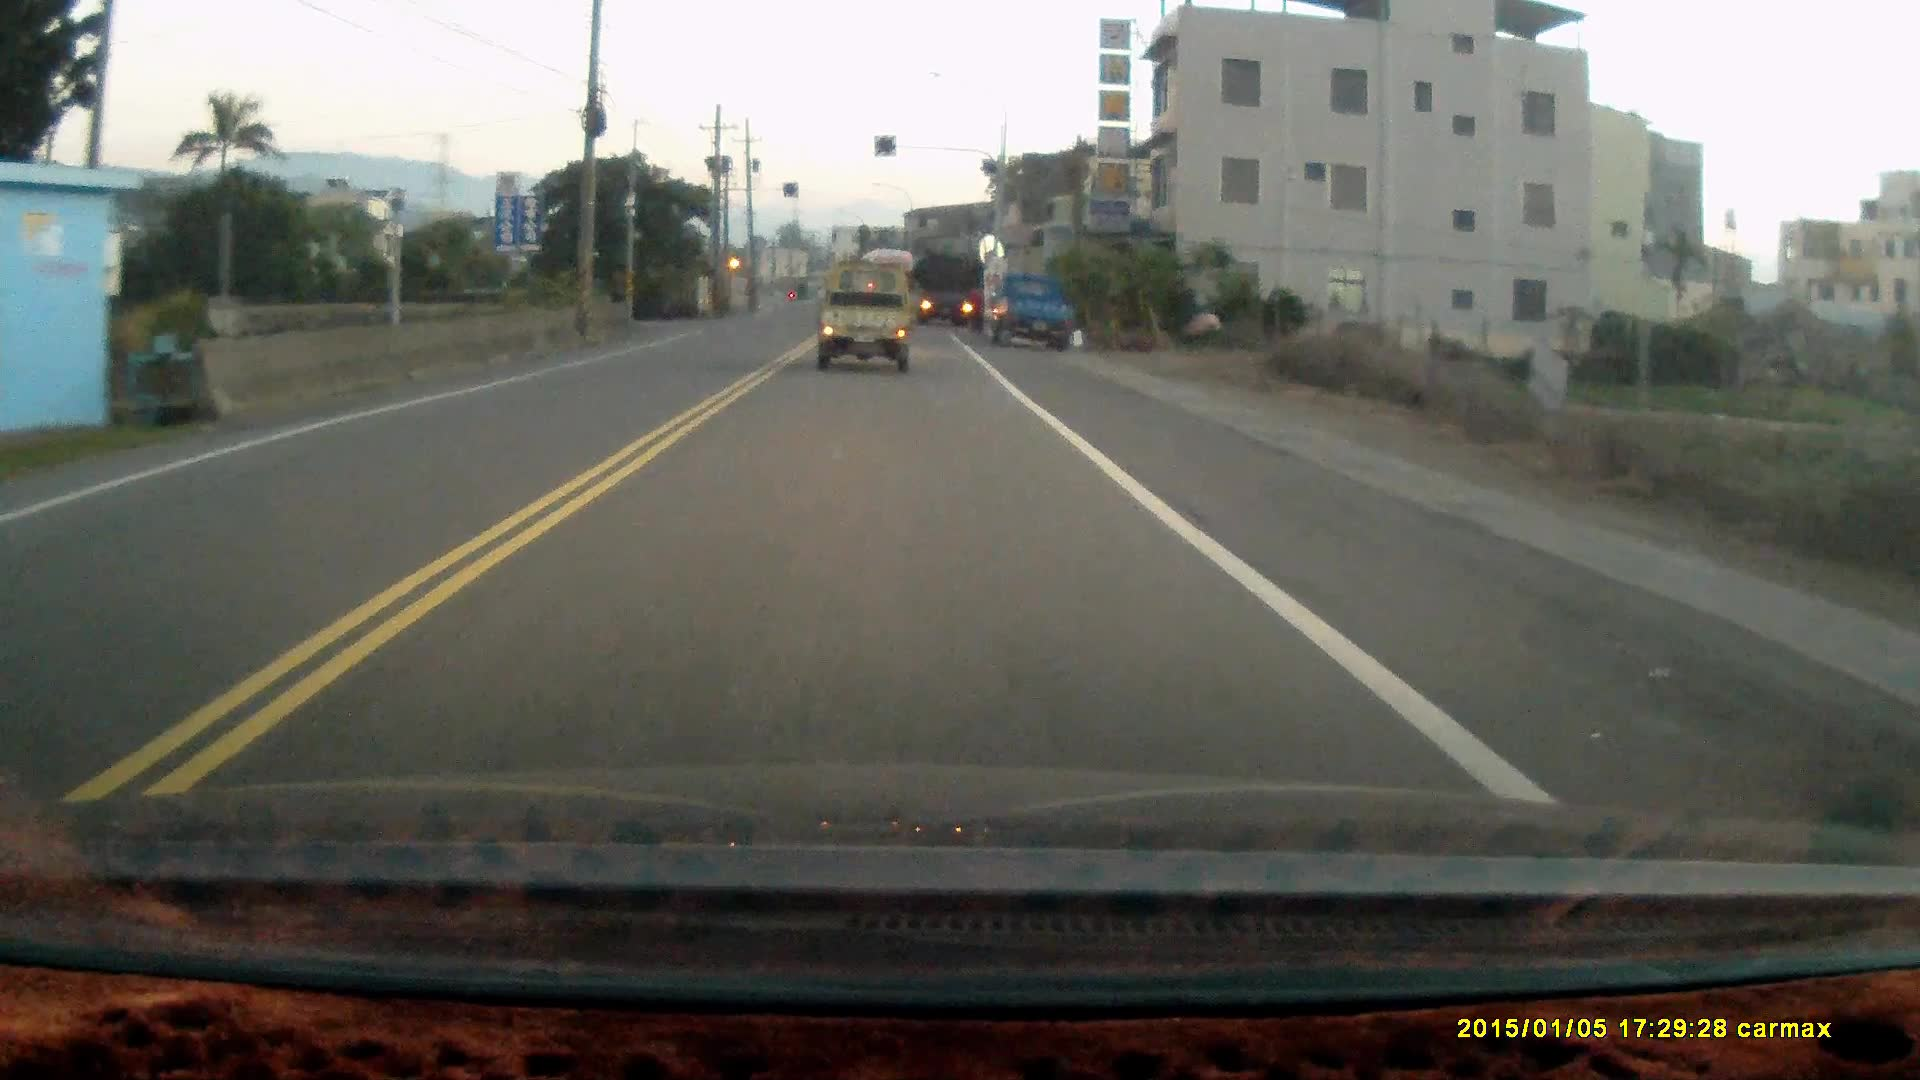vehicle: (814, 262, 916, 382), (984, 272, 1088, 348), (915, 255, 986, 326)
